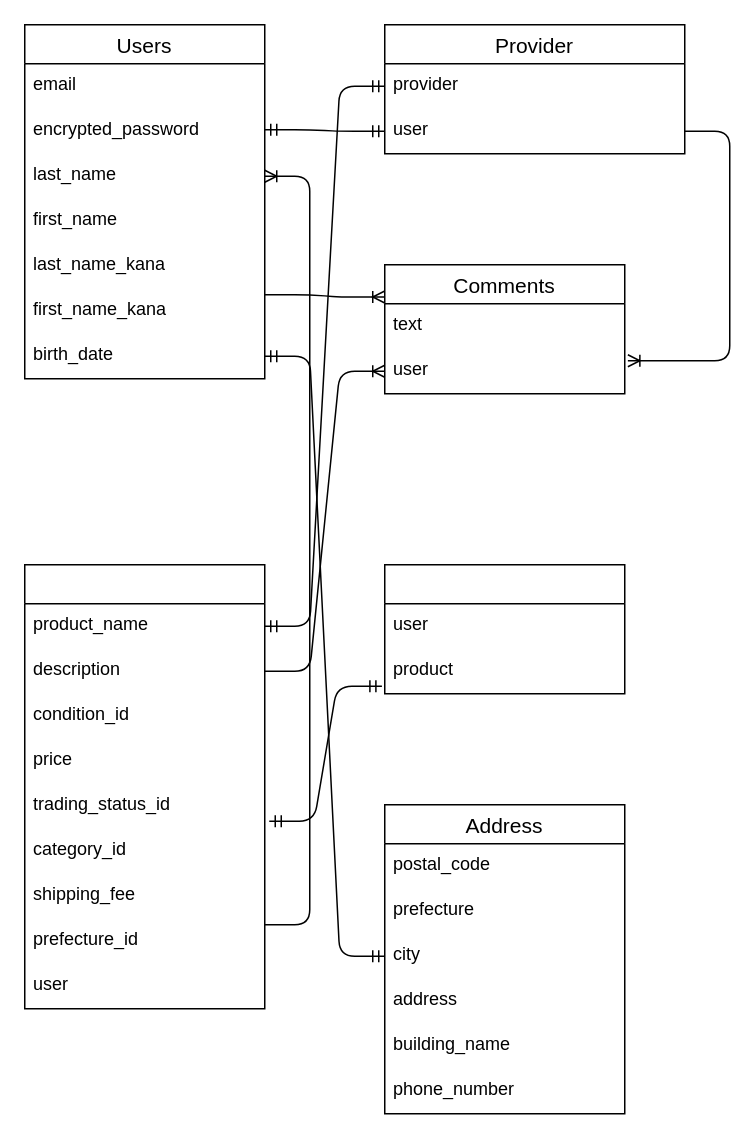
Image size: 755x1139. Some labels were removed from this diagram. The shapes that lost their labels are listed below. From the top down, each one's box as (x1, y1, x2, y2) in pixels, then its label:
(383, 563, 625, 694): Orders
(23, 563, 265, 1009): Products
